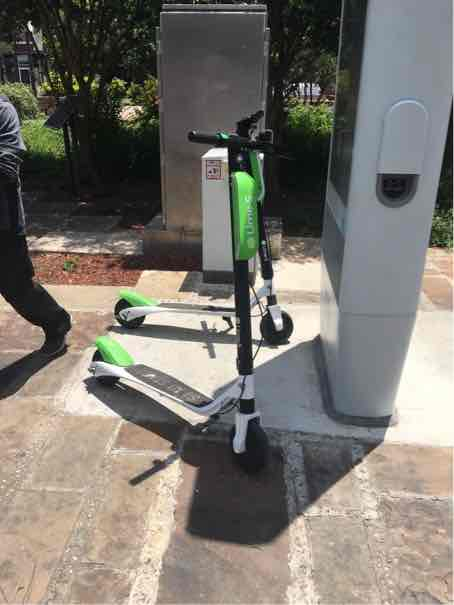scooter: (66, 111, 310, 471)
